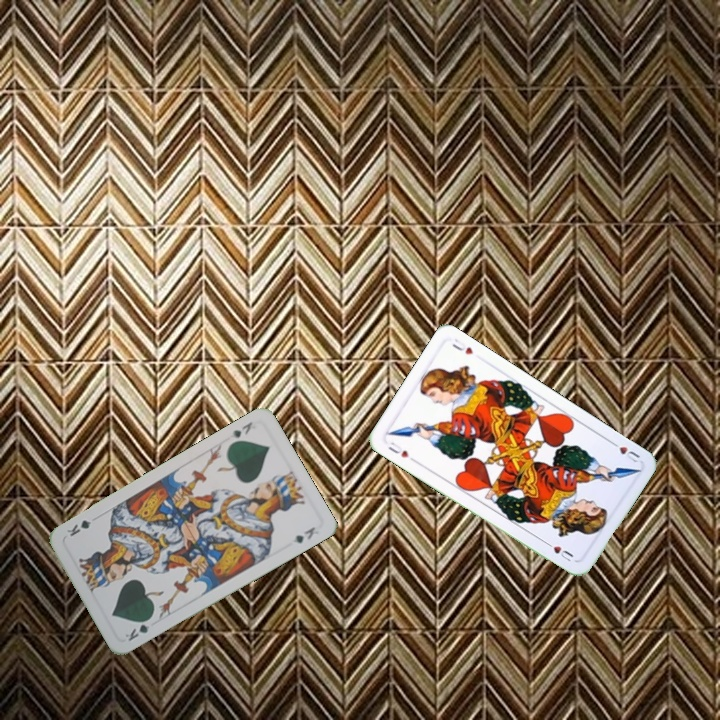GK: (121, 613, 155, 644), (228, 417, 255, 441)
HU: (606, 437, 643, 465), (384, 438, 418, 465)
